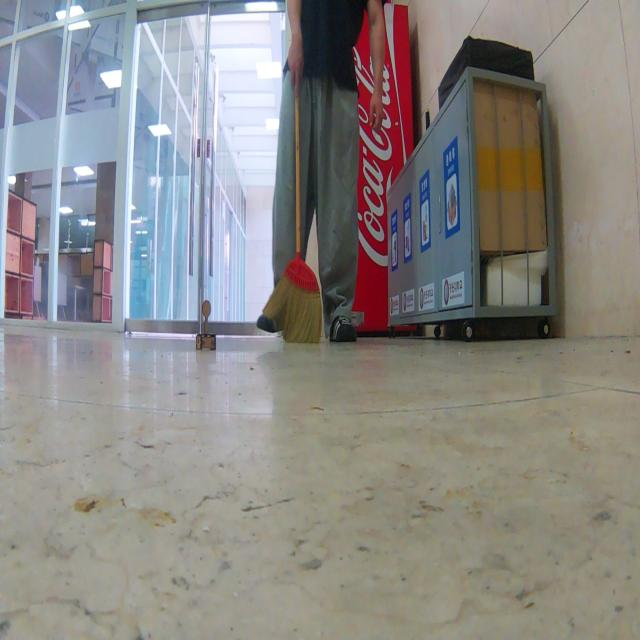target: (196, 300, 217, 350)
